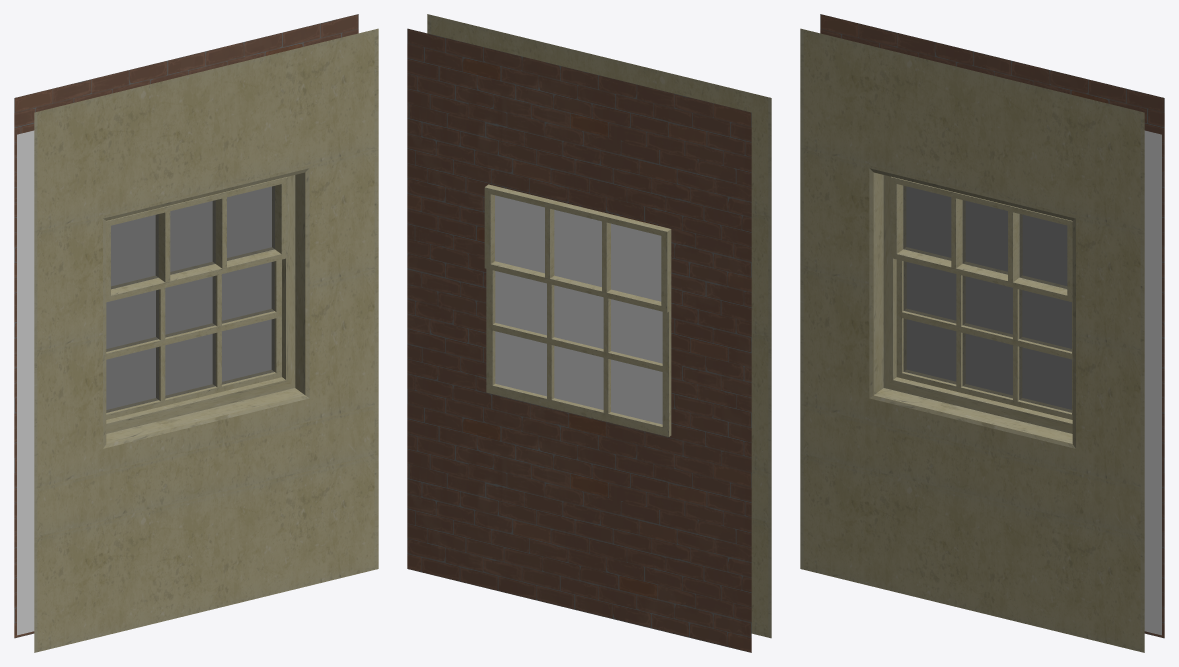
File: Trim_Window.gltf
3 renders of one model, left to right at view 1: azimuth 30°, elevation 25°; view 2: azimuth 150°, elevation 25°; view 3: azimuth 330°, elevation 25°, orthographic.
Visible parts, largest first — view 1: Trim_Window; view 2: Trim_Window; view 3: Trim_Window.
Boxes of the visible parts, bbox=[...] form: Trim_Window: bbox=[14, 14, 378, 652]; Trim_Window: bbox=[407, 14, 771, 652]; Trim_Window: bbox=[800, 14, 1164, 652].
Size of the model in its own units: 2 by 3 by 0.2397.
5 materials, 3 textured.
